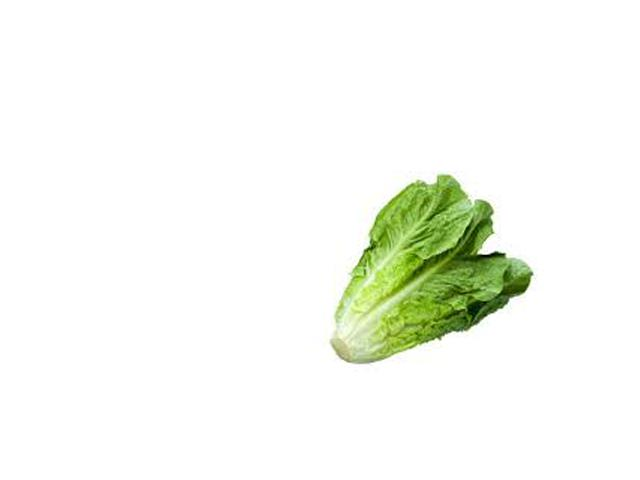lettuce: (323, 147, 530, 366)
